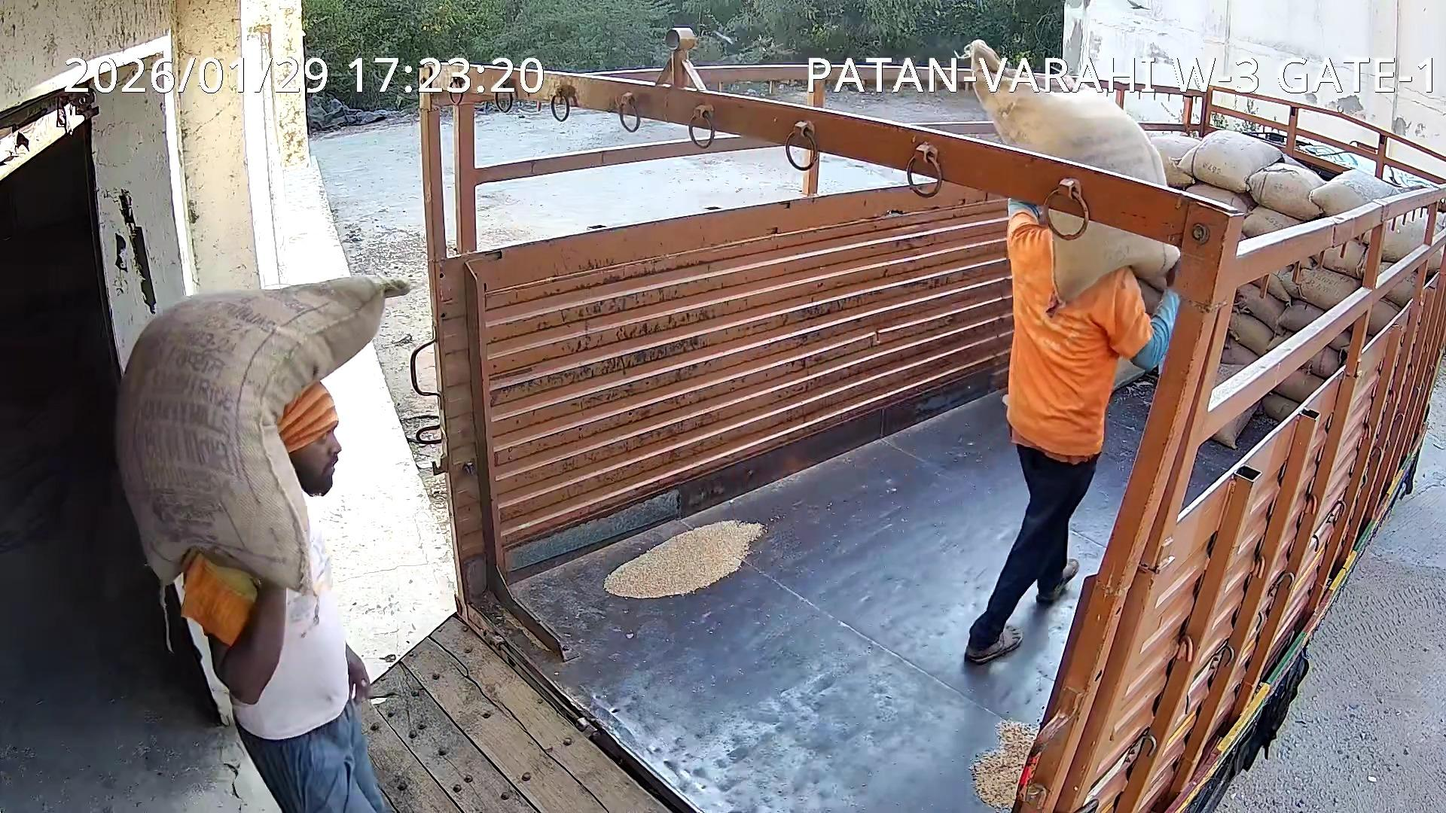Sack: (116, 276, 407, 591), (976, 70, 1166, 183), (1040, 178, 1179, 303)
